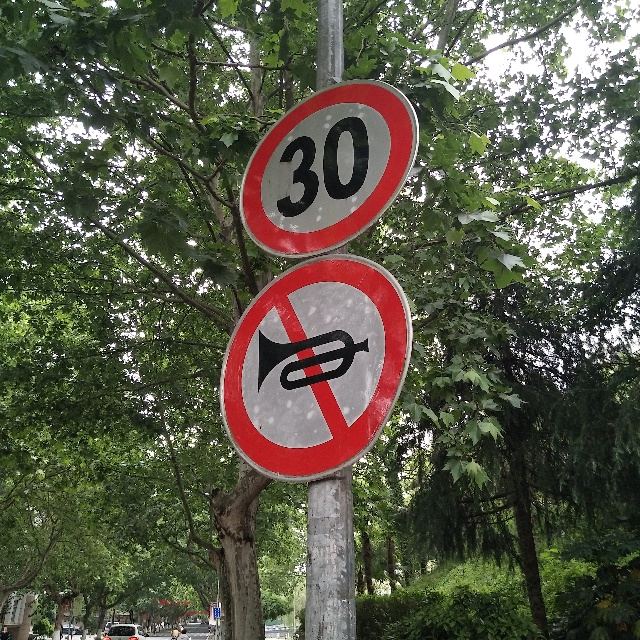nohonk: (228, 252, 411, 486)
